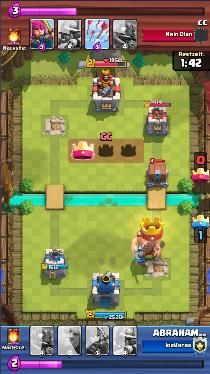ally_goblin_cage: (146, 161, 170, 188)
ally_knight: (134, 248, 149, 267)
enemy_giant: (131, 233, 161, 260)
